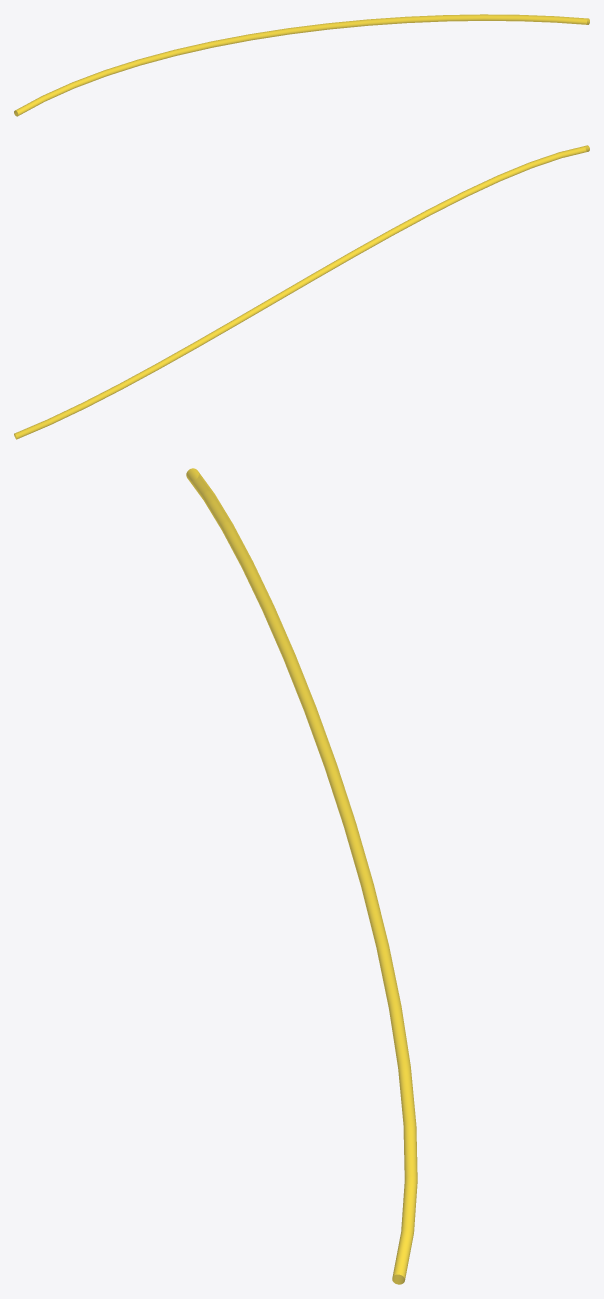
The model's file is Event_419990632_track_90.fbx.
3 renders of one model, top to bottom at view 1: azimuth 30°, elevation 25°; view 2: azimuth 210°, elevation 25°; view 3: azimuth 270°, elevation 25°, orthographic. The views are drawn at different scales.
Parts seen in each view (by area): view 1: Model; view 2: Model; view 3: Model.
Boxes of the visible parts, <box> form: Model: <box>14,14,589,116</box>; Model: <box>14,145,589,439</box>; Model: <box>186,468,417,1284</box>.
Bounding box in the file's own units: 4.45 × 0.7451 × 0.7131.
